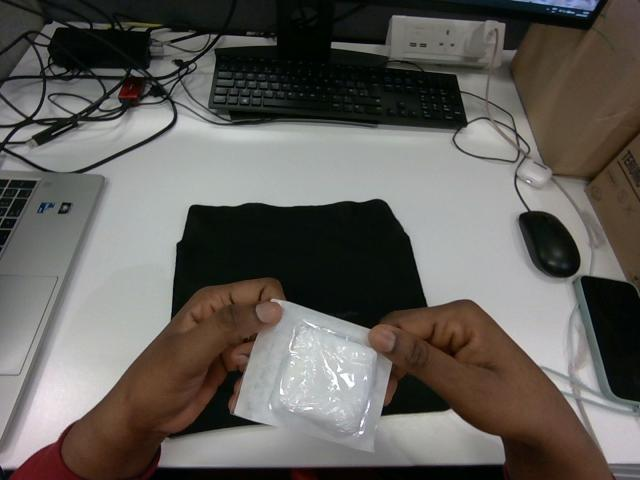gauze: (233, 300, 390, 450)
